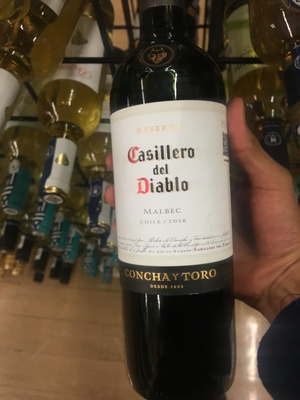casillero del diablo malbec: (102, 17, 248, 400)
